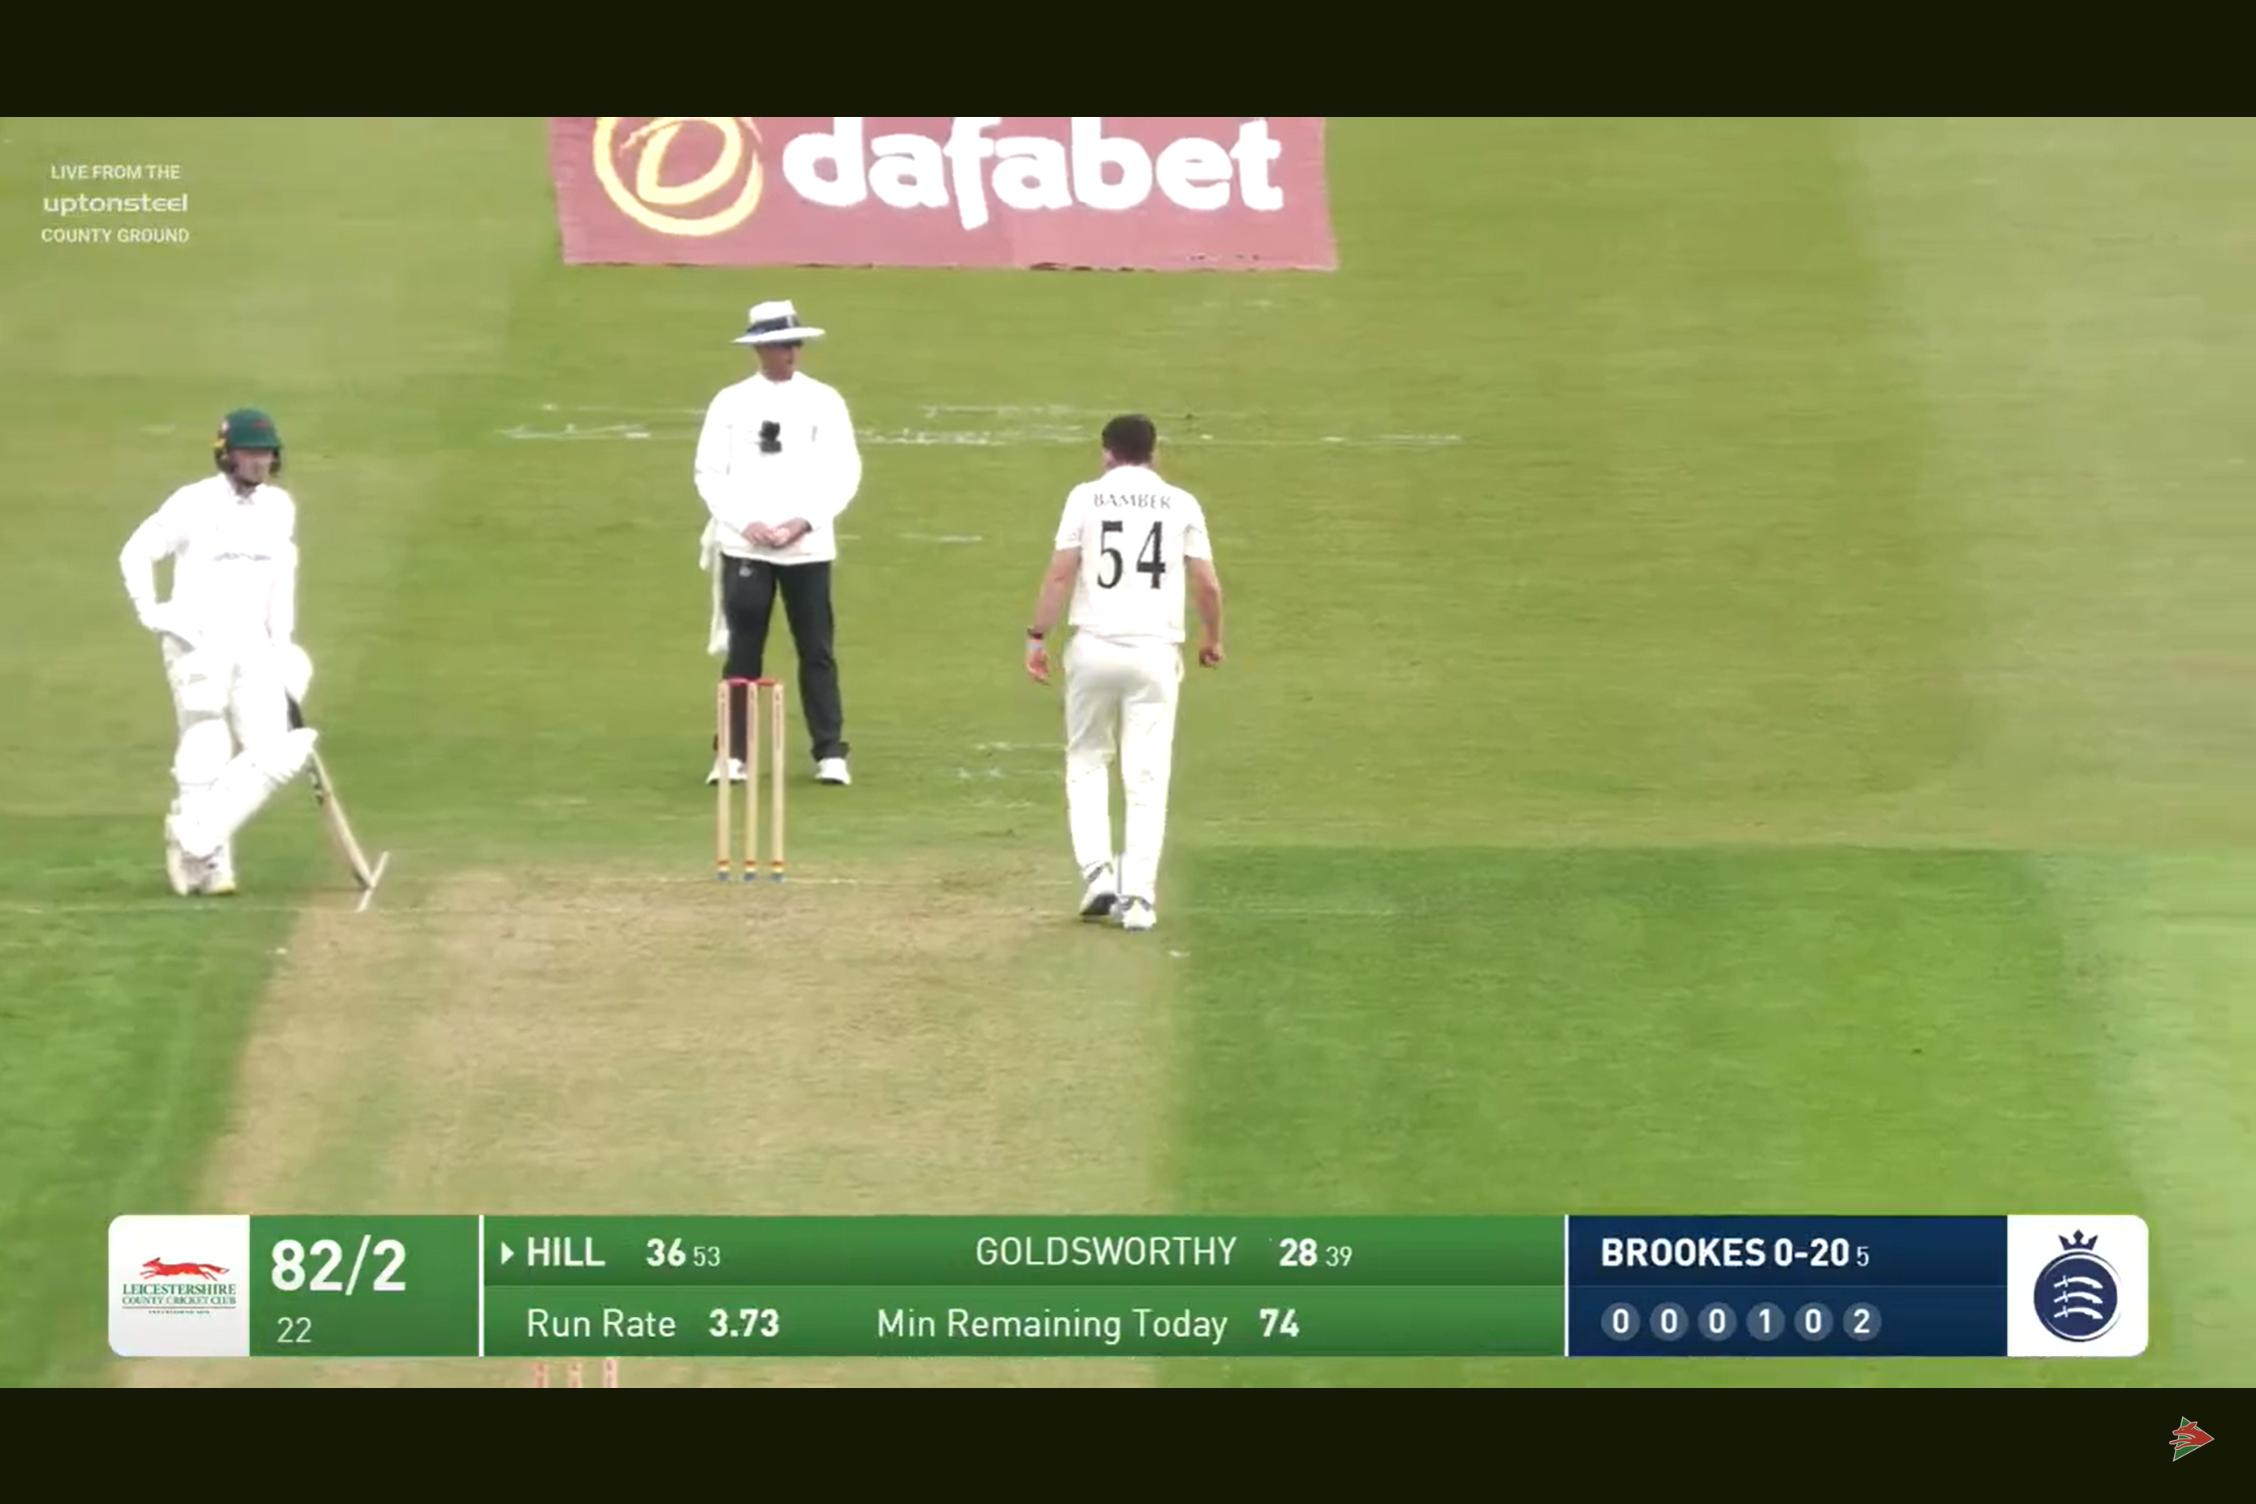bowler walking back: (997, 378, 1251, 950)
non striker: (116, 378, 396, 932)
stumps: (707, 668, 816, 906)
umpire: (676, 279, 896, 660)
